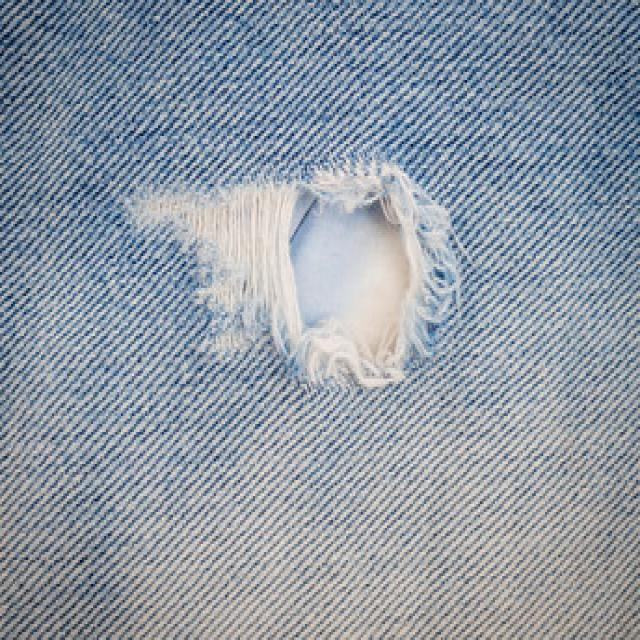Hole: (127, 160, 461, 387)
